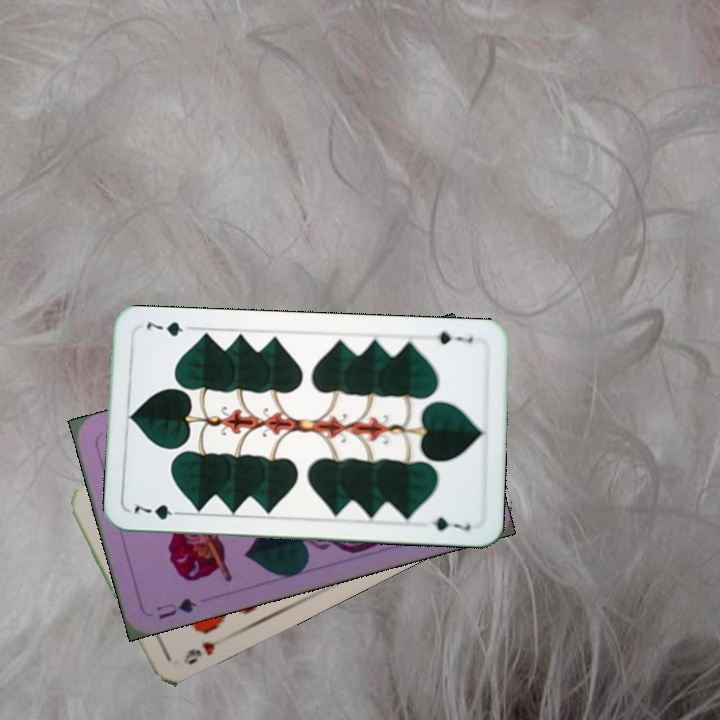G7: (130, 499, 187, 522), (433, 327, 476, 347)
GU: (152, 593, 199, 622)
H9: (179, 637, 218, 668)
